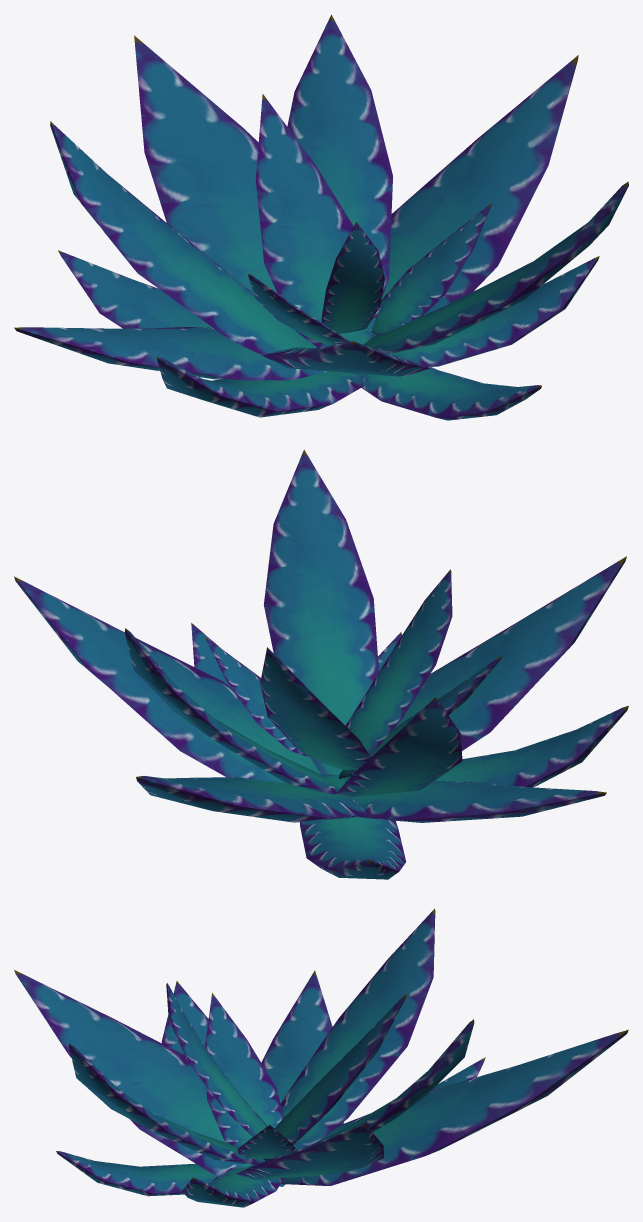
The model's file is DE_Cactus_07.fbx.
The picture shows the model from 3 angles, top to bottom: view 1: azimuth 30°, elevation 25°; view 2: azimuth 150°, elevation 25°; view 3: azimuth 270°, elevation 25°; orthographic projection. The views are drawn at different scales.
Visible parts, largest first — view 1: DE_Cactus_07; view 2: DE_Cactus_07; view 3: DE_Cactus_07.
Boxes of the visible parts, x1=… form: DE_Cactus_07: x1=14, y1=14, x2=628, y2=420; DE_Cactus_07: x1=14, y1=449, x2=628, y2=879; DE_Cactus_07: x1=14, y1=908, x2=628, y2=1207.
Size of the model in its own units: 2.93 by 1.17 by 3.14.
